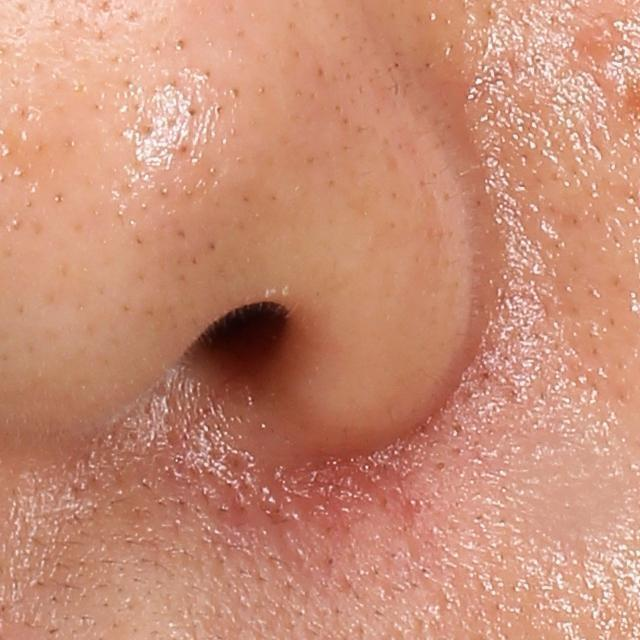papule: (582, 22, 621, 60)
